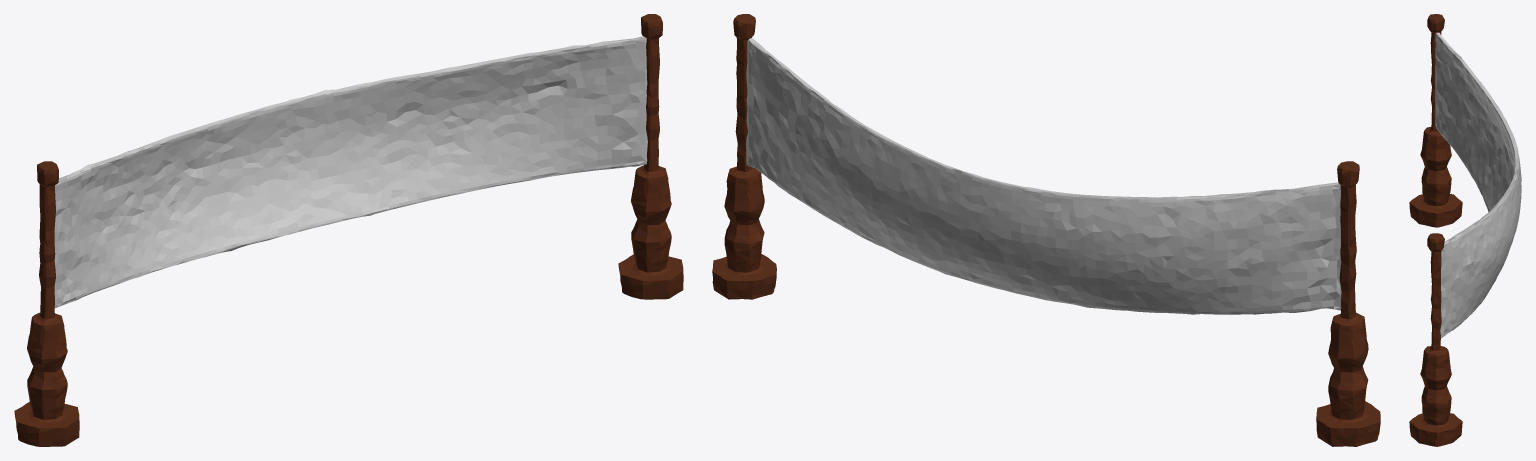
File: DesertLandSnakeFlag0200.obj
3 renders of one model, left to right at view 1: azimuth 30°, elevation 25°; view 2: azimuth 150°, elevation 25°; view 3: azimuth 270°, elevation 25°, orthographic. The views are drawn at different scales.
Visible parts, largest first — view 1: Cube.003, Cube, Cube.002; view 2: Cube.003, Cube, Cube.002; view 3: Cube.003, Cube.002, Cube.
Boxes of the visible parts, <box> form: Cube.003: <box>54,36,647,307</box>; Cube: <box>14,161,79,446</box>; Cube.002: <box>618,14,683,299</box>; Cube.003: <box>746,38,1341,314</box>; Cube: <box>1316,161,1380,446</box>; Cube.002: <box>712,14,776,299</box>; Cube.003: <box>1435,32,1521,338</box>; Cube.002: <box>1409,233,1462,446</box>; Cube: <box>1409,14,1462,227</box>.
Size of the model in its own units: 27.57 by 10.7 by 5.4.
